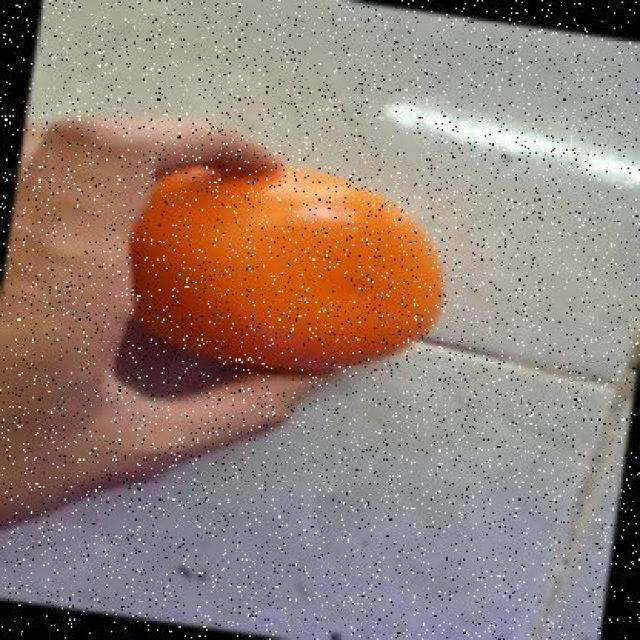Orange: (126, 156, 445, 372)
